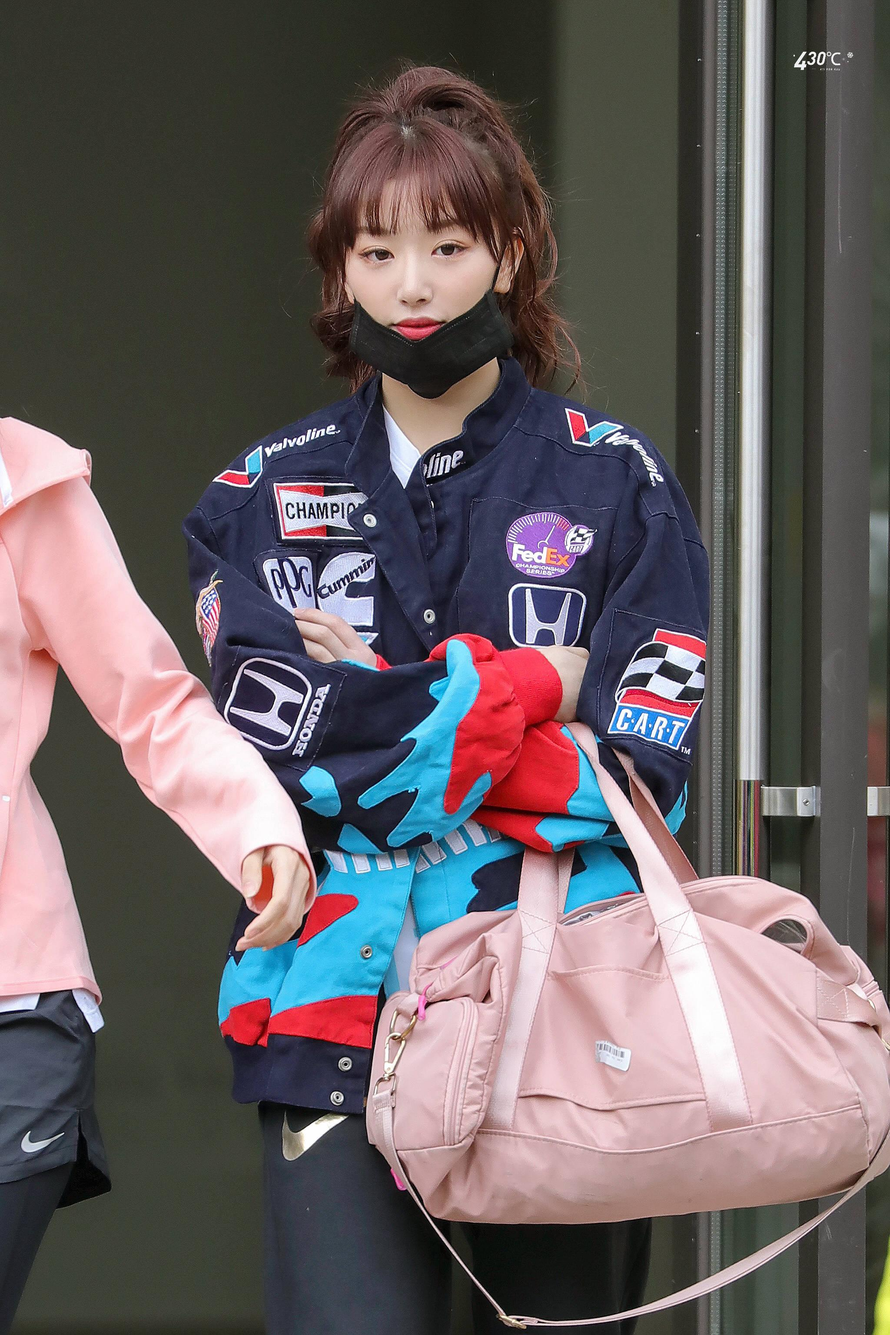WRONG: (343, 205, 500, 384)
